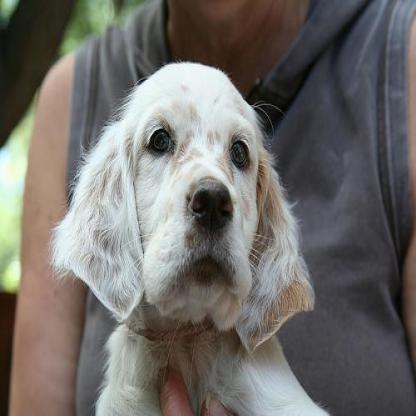English_setter: (47, 58, 331, 414)
